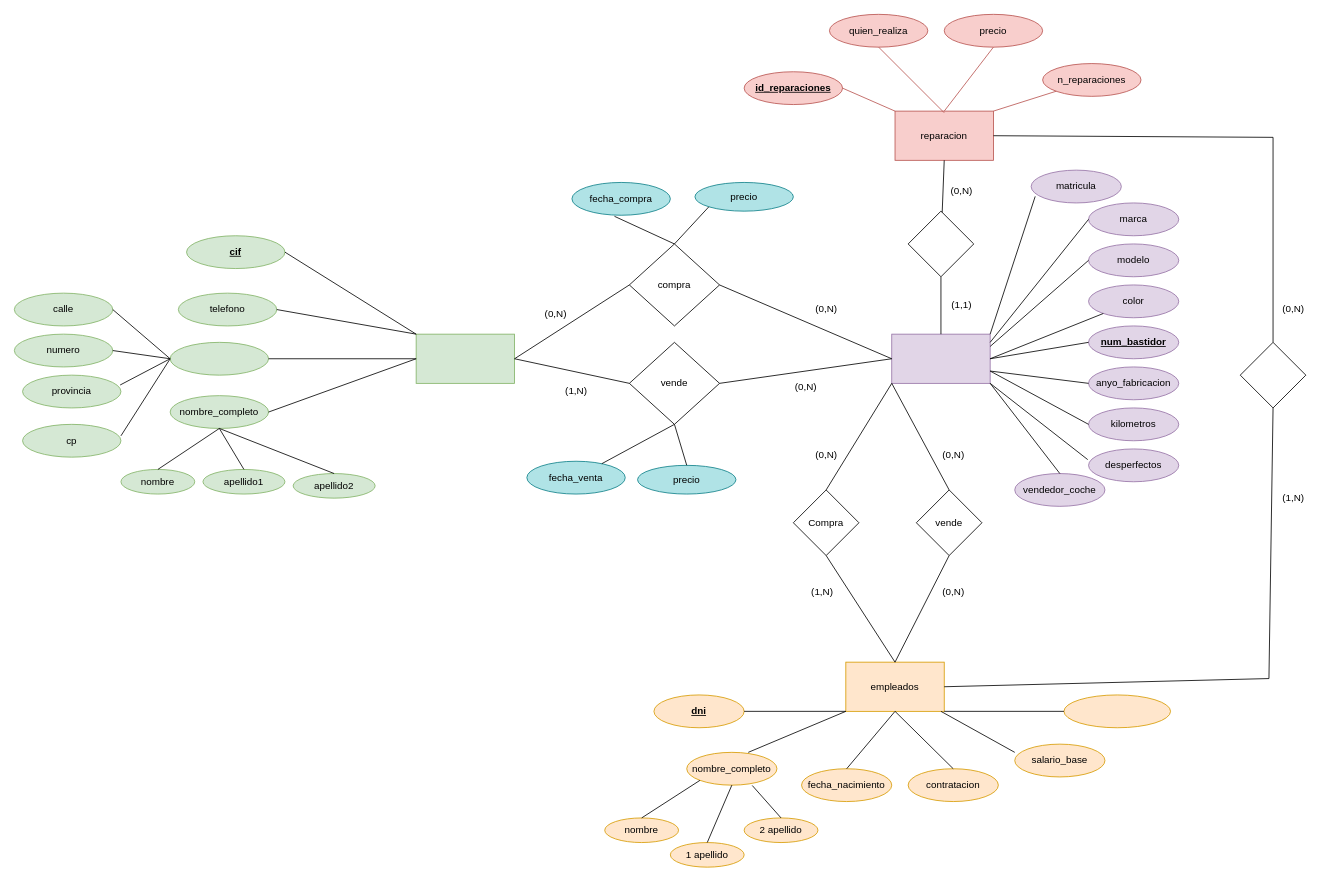
Some shapes in this 1333 by 882 pixel diagram are drawn without their labels. Here are the shapes that lost their labels. From the top down, the box of each, then its label:
(907, 210, 974, 277): necesita
(169, 342, 269, 375): domicilio
(415, 333, 515, 383): cliente
(891, 333, 990, 383): coche
(1239, 342, 1306, 408): hacen
(1063, 694, 1171, 728): porcentage_comision
